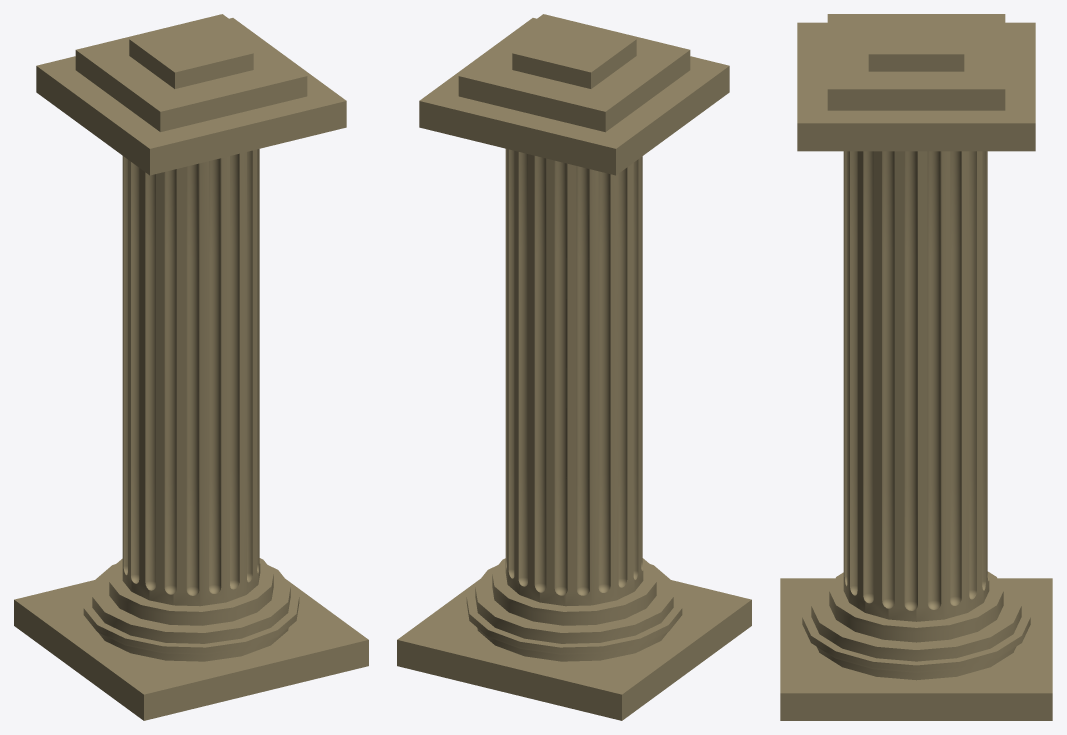
File: pillar.fbx
3 renders of one model, left to right at view 1: azimuth 30°, elevation 25°; view 2: azimuth 150°, elevation 25°; view 3: azimuth 270°, elevation 25°, orthographic. The views are drawn at different scales.
Parts seen in each view (by area): view 1: Cylinder_Cloner, Cube, Cube_1, Cube_2, Tube_1, Cube_3, Tube, Tube_2; view 2: Cylinder_Cloner, Cube, Cube_1, Cube_2, Tube_1, Cube_3, Tube, Tube_2; view 3: Cylinder_Cloner, Cube, Cube_1, Cube_2, Tube_1, Cube_3, Tube, Tube_2.
Boxes of the visible parts, box(x1,y1,x2,y2) form: Cylinder_Cloner: box(122, 149, 260, 606); Cube: box(14, 579, 368, 720); Cube_1: box(36, 18, 346, 175); Cube_2: box(75, 14, 307, 132); Tube_1: box(92, 564, 290, 661); Cube_3: box(129, 20, 253, 88); Tube: box(109, 558, 273, 625); Tube_2: box(83, 580, 299, 654); Cylinder_Cloner: box(505, 148, 643, 606); Cube: box(397, 579, 751, 720); Cube_1: box(419, 18, 729, 175); Cube_2: box(458, 14, 690, 132); Tube_1: box(475, 564, 673, 661); Cube_3: box(512, 20, 636, 88); Tube: box(492, 558, 656, 625); Tube_2: box(466, 580, 682, 654); Cylinder_Cloner: box(843, 151, 989, 621); Cube: box(780, 578, 1052, 720); Cube_1: box(797, 22, 1035, 151); Cube_2: box(827, 14, 1005, 110); Tube_1: box(811, 579, 1021, 680); Cube_3: box(868, 14, 964, 71); Tube: box(829, 571, 1003, 642); Tube_2: box(802, 596, 1030, 672).
Bounding box in the file's own units: 96.47 × 246 × 96.47.
